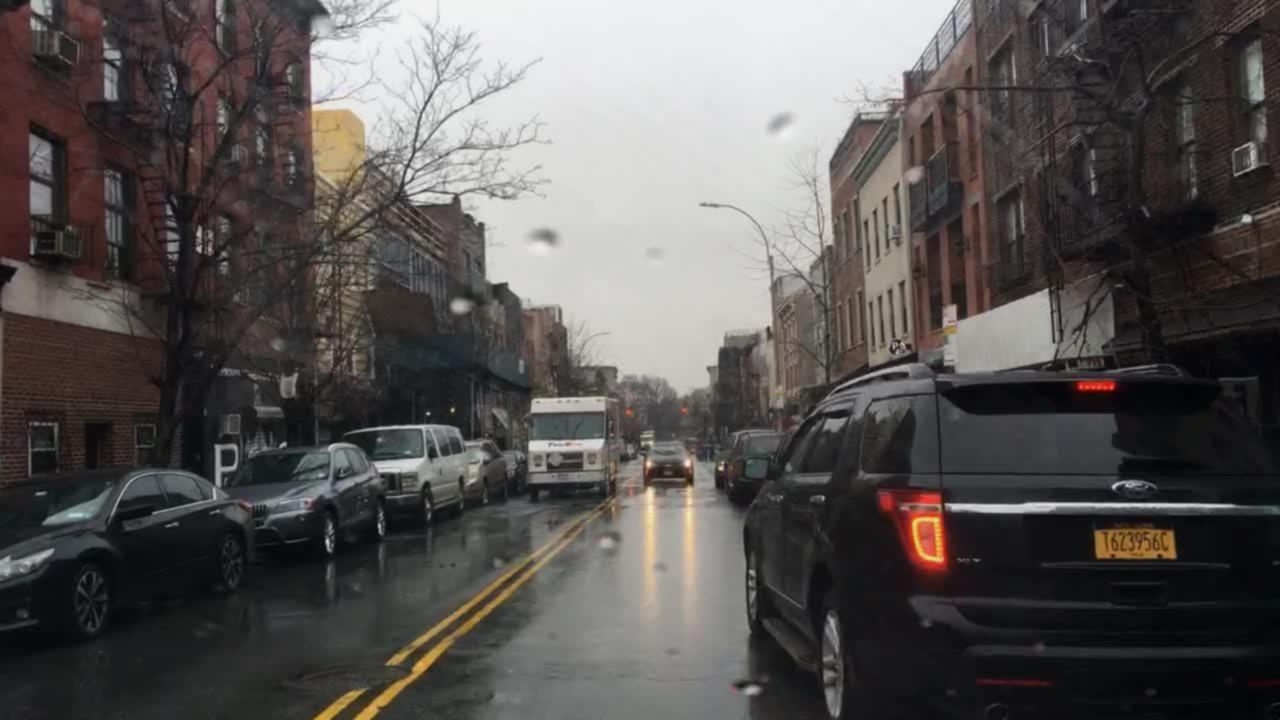ford: (1107, 477, 1162, 502)
